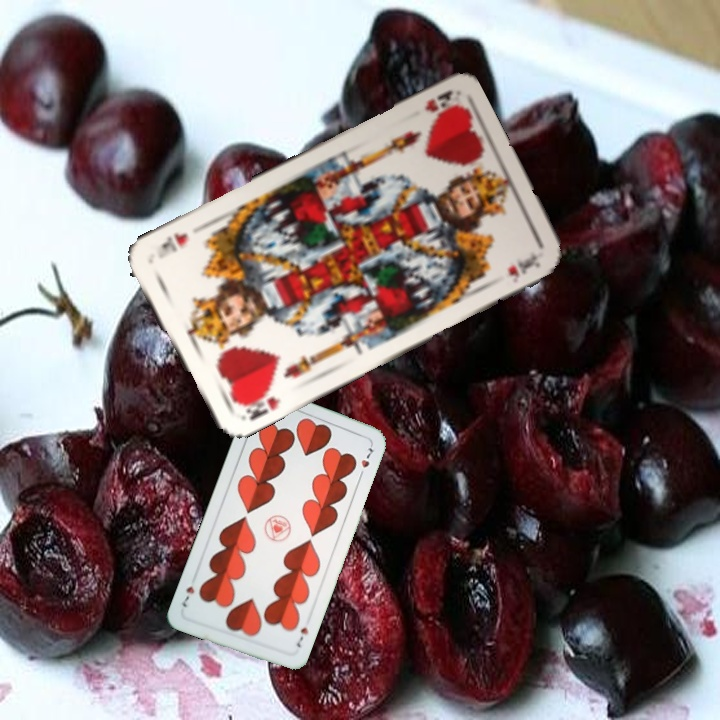H7: (292, 623, 311, 650)
HK: (232, 385, 284, 424), (421, 86, 460, 117)
